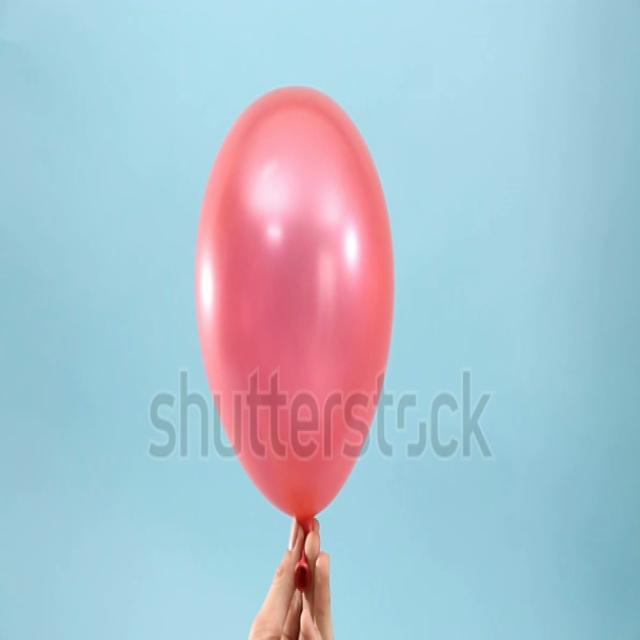red: (193, 83, 395, 586)
